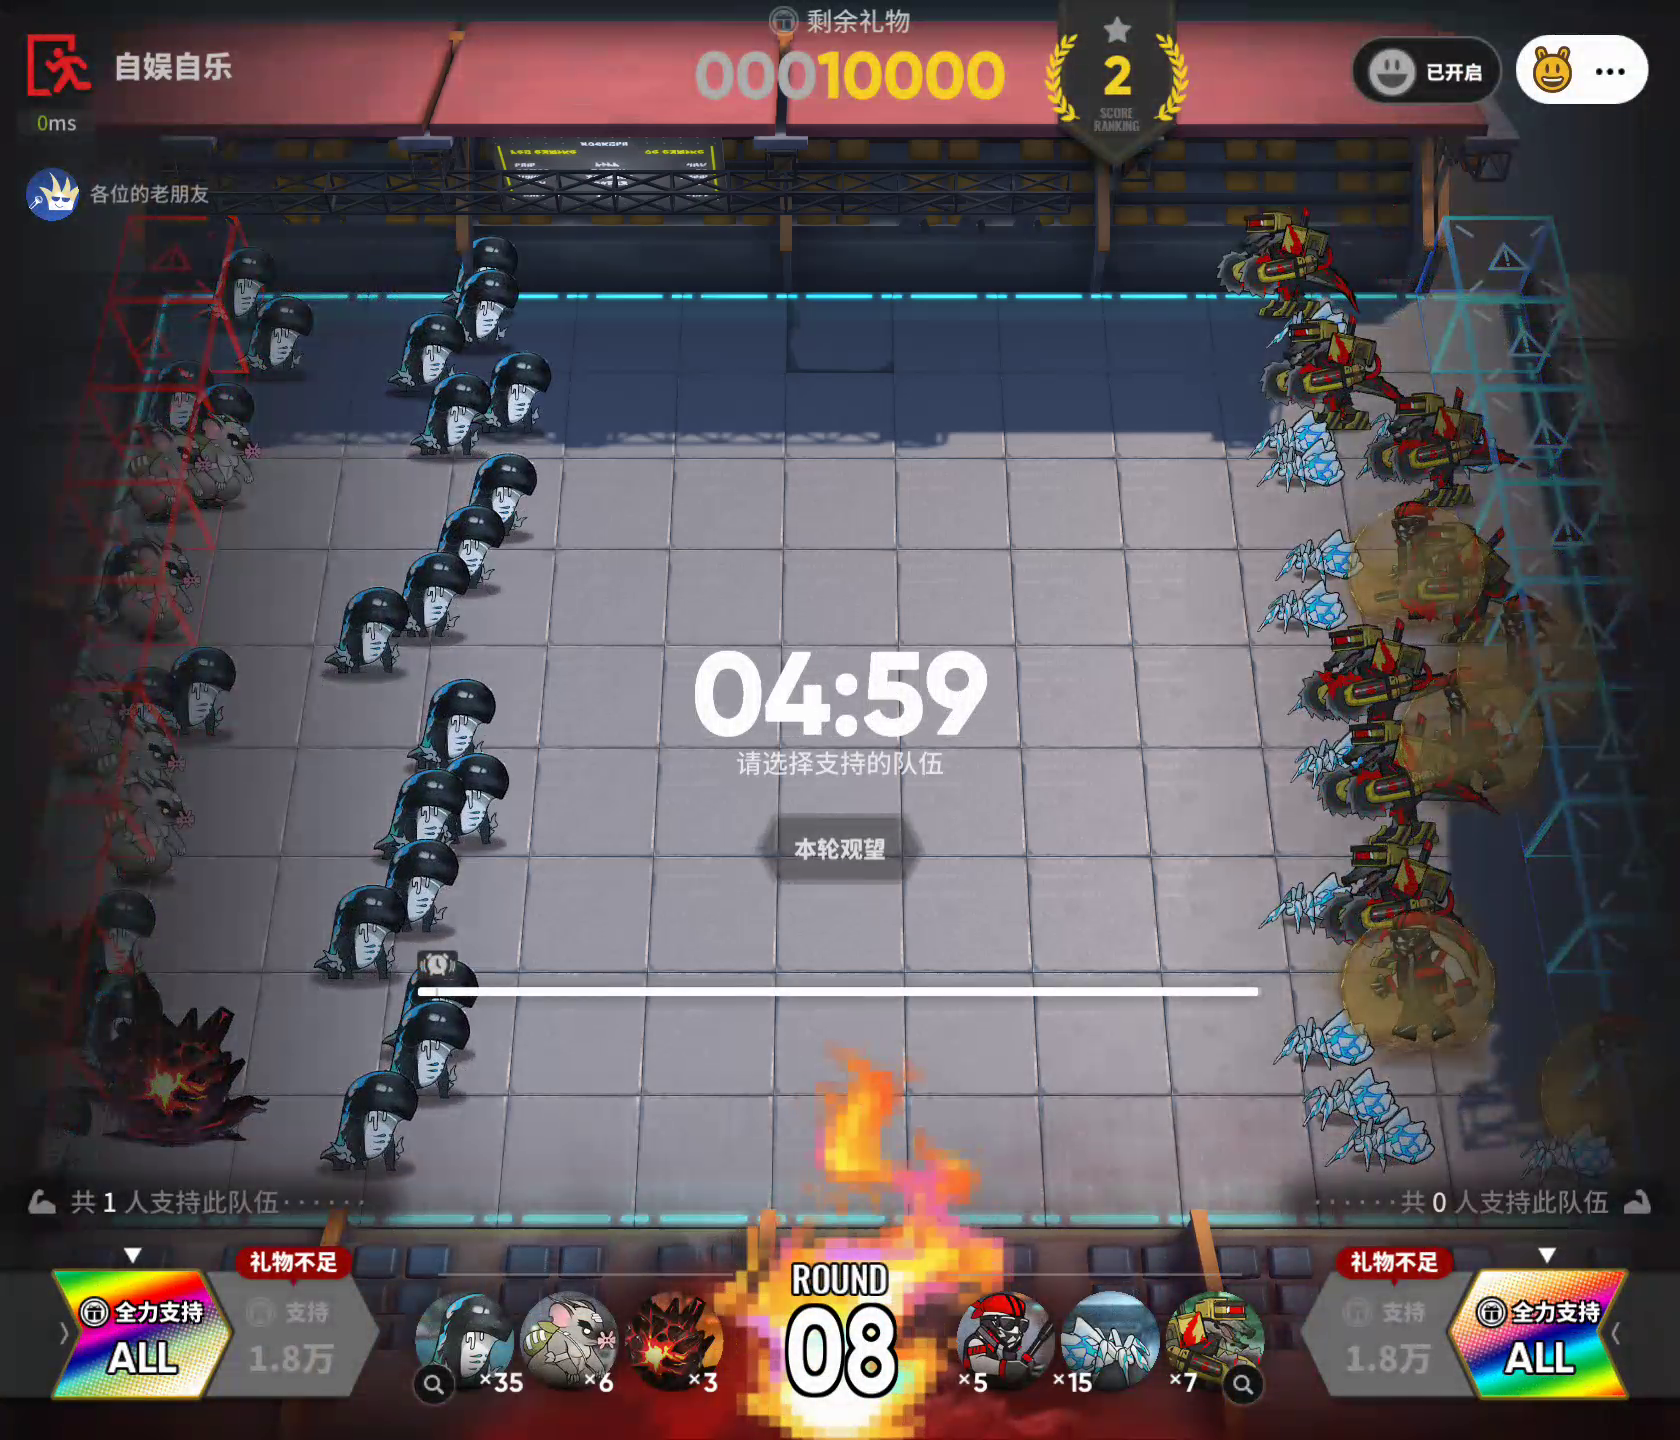“庞贝”: (101, 1000, 271, 1150), (6, 919, 114, 1047), (624, 1284, 729, 1394)
机鳄战甲: (1213, 201, 1369, 333), (1319, 706, 1459, 849), (1364, 381, 1539, 494), (1264, 316, 1419, 437), (1327, 833, 1473, 949), (1306, 614, 1441, 737), (1419, 514, 1539, 637), (1167, 1287, 1274, 1390)
清醒的墨魉: (324, 1066, 419, 1179), (414, 1289, 516, 1391), (363, 760, 460, 866), (380, 996, 473, 1106), (311, 881, 409, 984), (379, 951, 483, 1046), (74, 880, 169, 980), (429, 749, 520, 851), (79, 966, 160, 1074), (116, 353, 219, 439), (404, 669, 489, 771), (14, 1086, 106, 1179), (386, 309, 481, 397), (164, 641, 251, 739), (410, 364, 500, 457), (191, 236, 280, 329), (389, 546, 474, 641), (317, 584, 401, 681), (229, 293, 321, 380), (424, 501, 509, 596), (474, 346, 561, 434), (379, 834, 453, 931), (436, 223, 526, 303), (466, 444, 534, 536), (451, 266, 526, 349), (104, 654, 183, 726), (186, 380, 271, 443), (80, 541, 136, 619)
玻璃球打手: (1334, 903, 1501, 1064), (1334, 486, 1487, 636), (1461, 587, 1614, 734), (1409, 663, 1541, 799), (1546, 1003, 1661, 1156), (947, 1289, 1061, 1397)
硕鼷: (520, 1283, 621, 1391), (91, 780, 199, 881), (33, 677, 129, 789), (109, 536, 204, 643), (106, 429, 209, 526), (186, 411, 266, 509), (114, 726, 187, 794)
自爆冰虫: (1061, 1289, 1161, 1394), (1314, 1101, 1436, 1181), (1269, 996, 1379, 1077), (1301, 1063, 1416, 1131), (1261, 574, 1359, 651), (1514, 1119, 1624, 1186), (1273, 526, 1380, 591), (1266, 871, 1361, 937), (1289, 729, 1383, 794), (1264, 299, 1361, 359), (1241, 406, 1344, 461), (1251, 434, 1351, 491), (1281, 677, 1363, 726), (1451, 431, 1516, 481), (1364, 406, 1410, 447)
